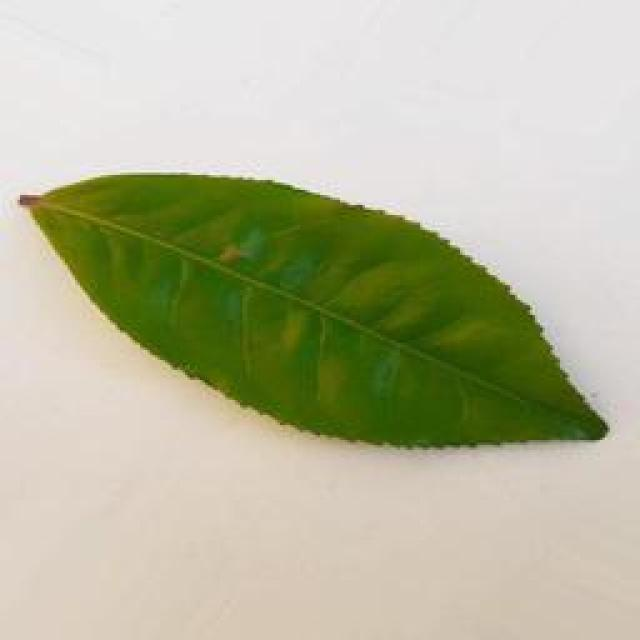Healthy: (10, 160, 616, 462)
